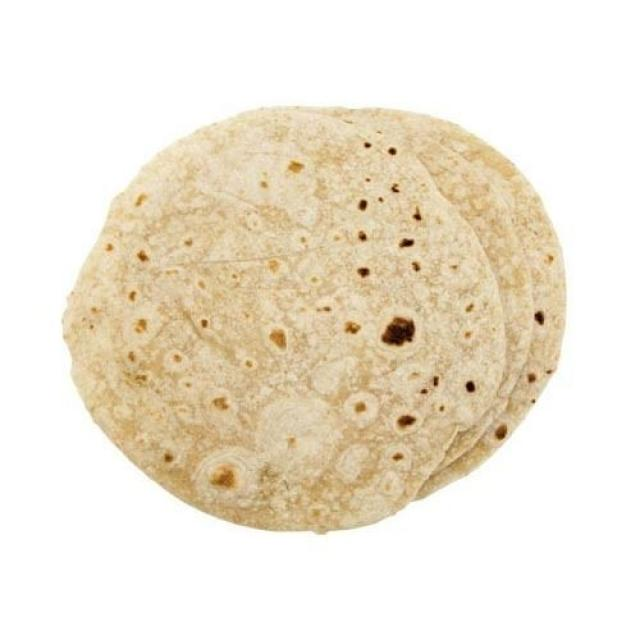ROTI: (61, 105, 509, 524)
